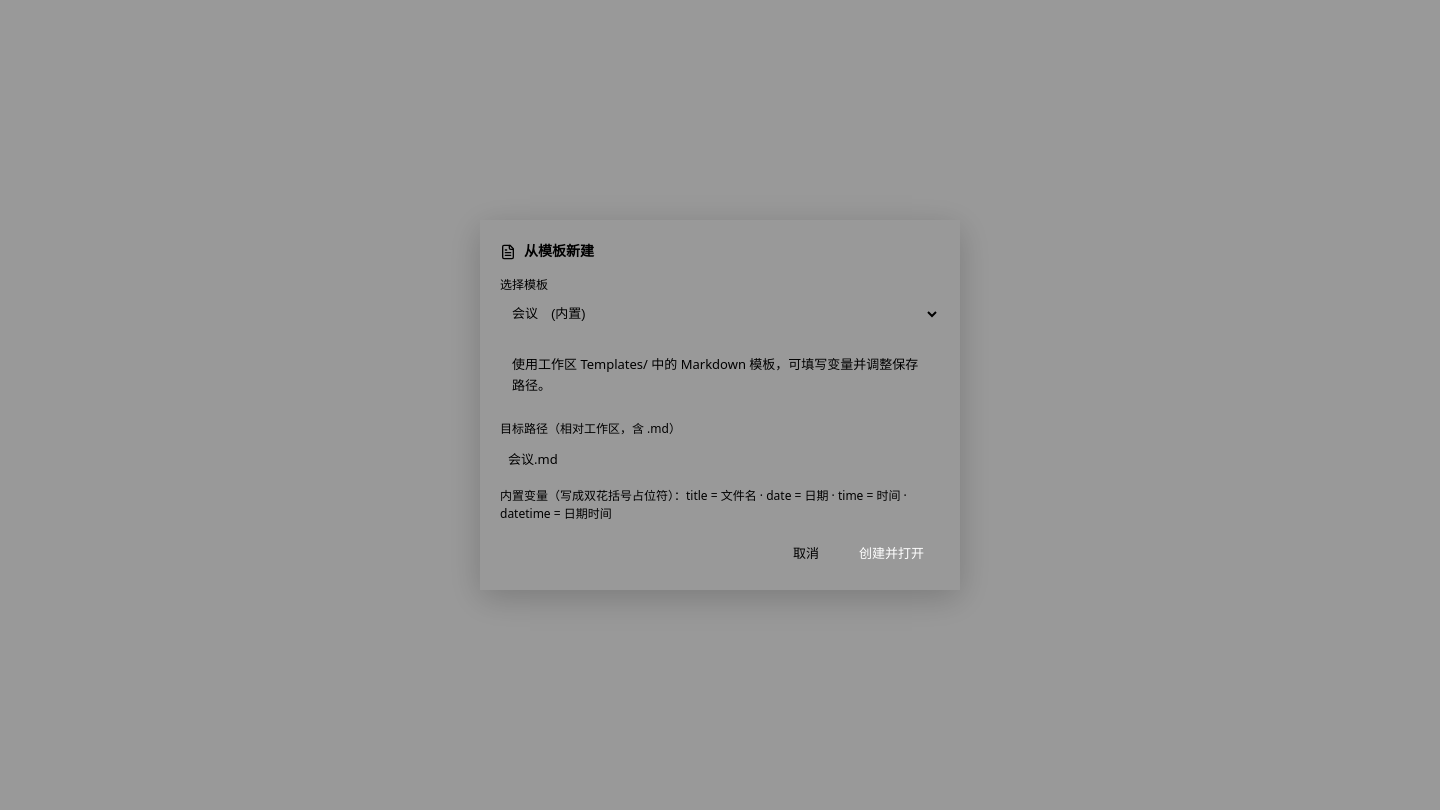
Test case: TemplateCreateDialog · P2-2 模板系统 › 创建失败时显示错误不关闭
Click the button "创建并打开".
click(892, 552)  # box [843,535,940,570]
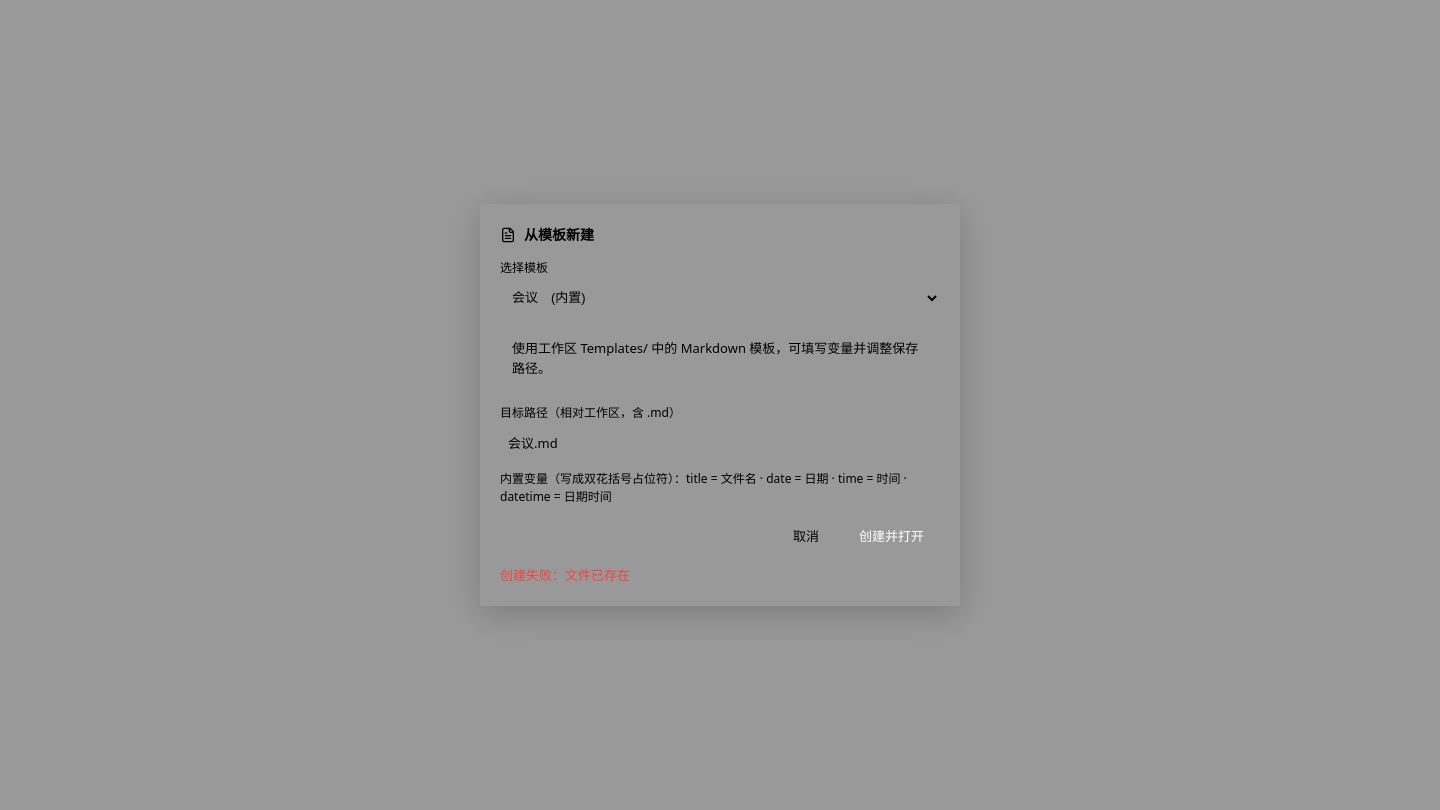
Check: the text "文件已存在" is shown, box [500,566,630,584]
